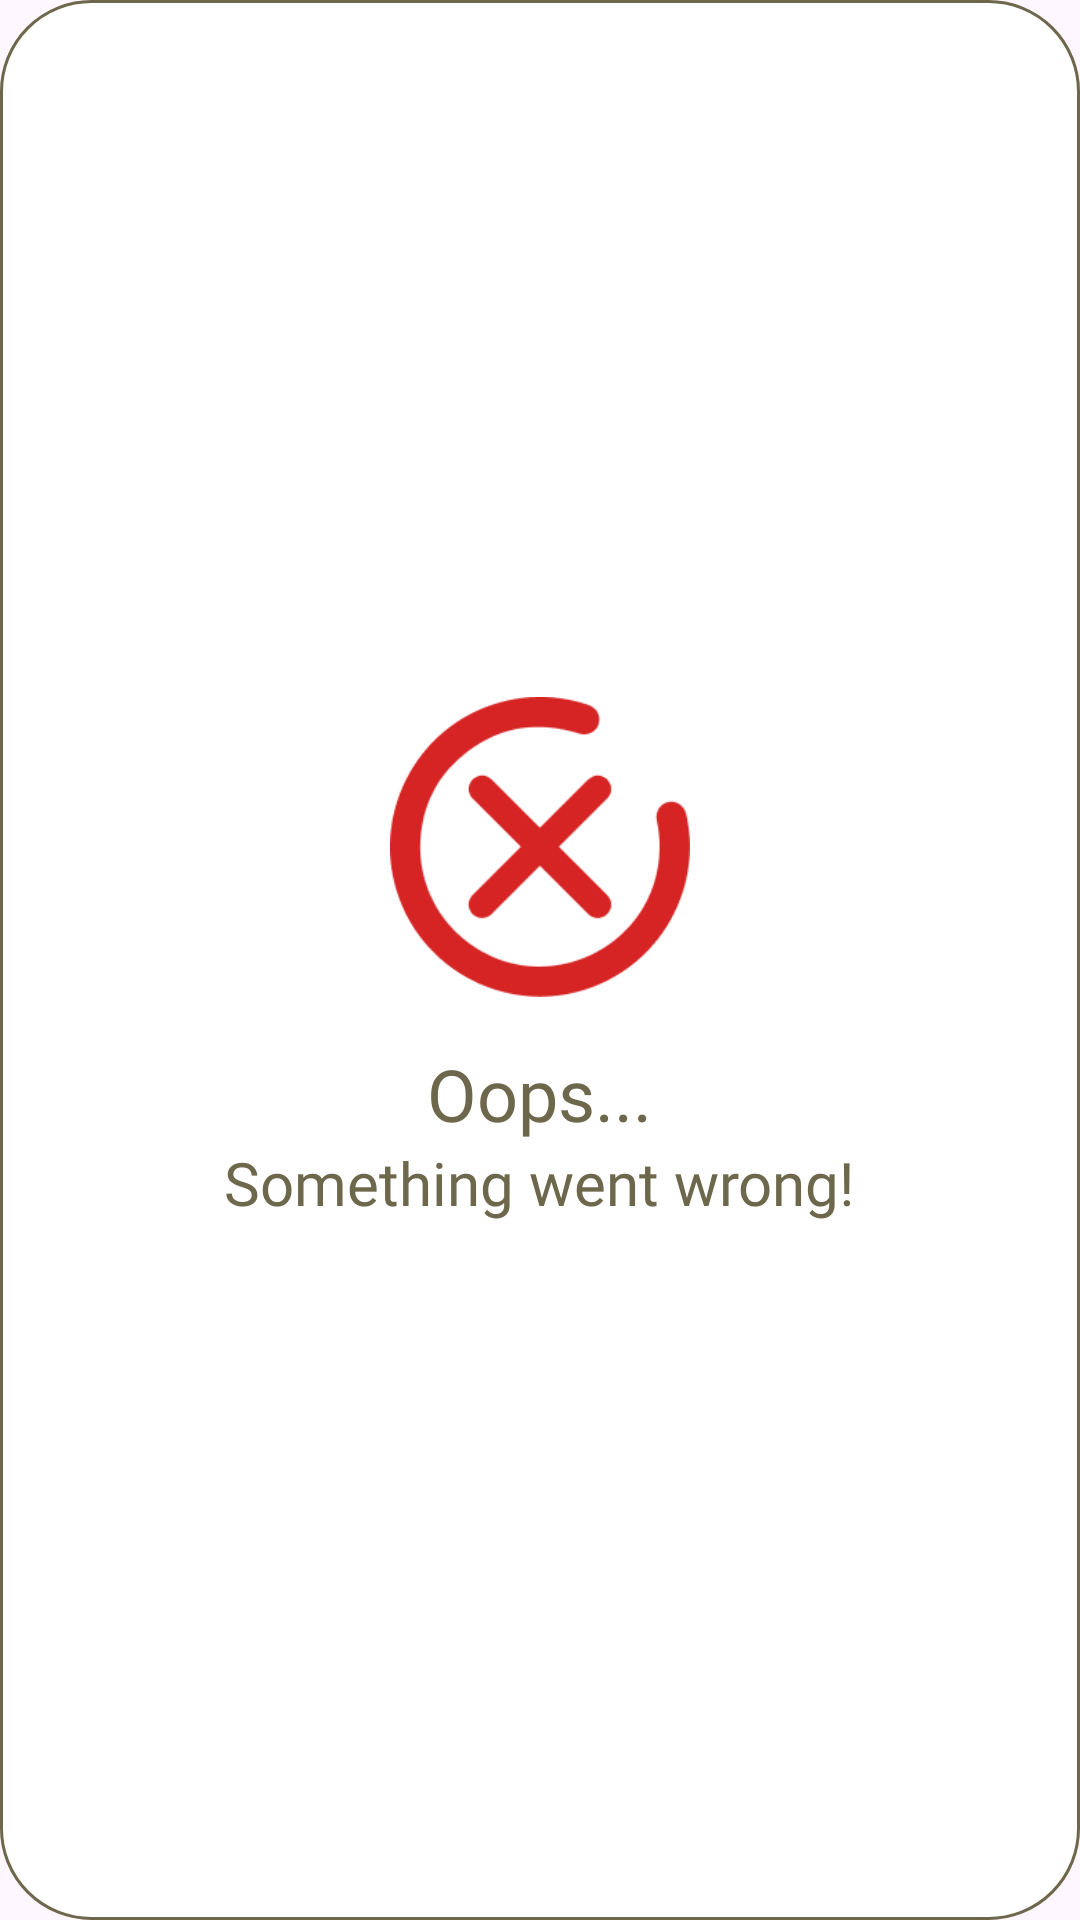

Point at icon controls on the screen. Image size 1080×1920, points as (x,y).
error: (540,847)
